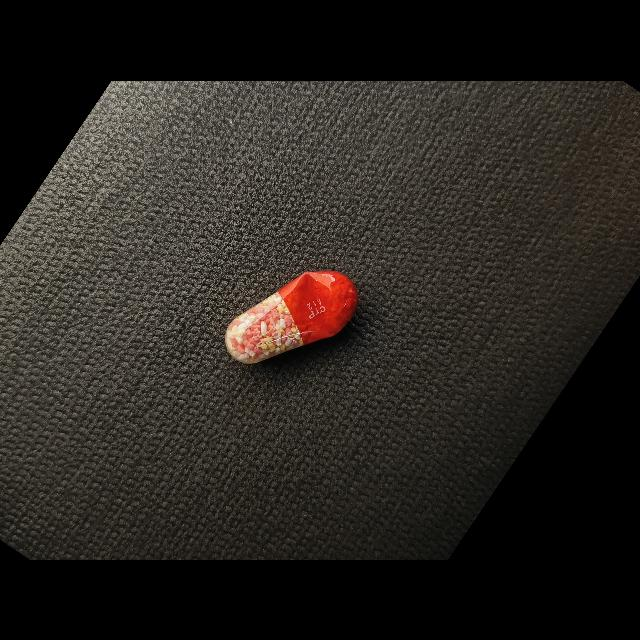Defective Capsule: (225, 270, 358, 363)
